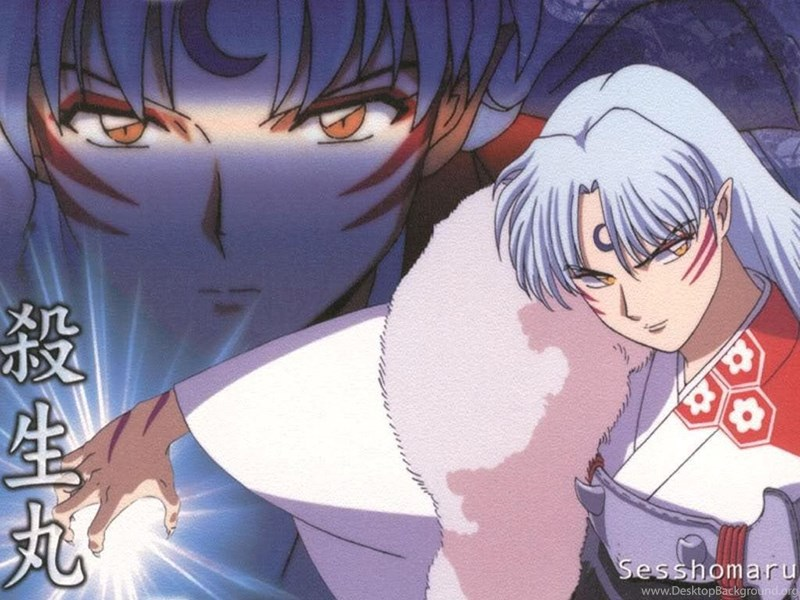sesshomaru: (479, 62, 800, 444)
